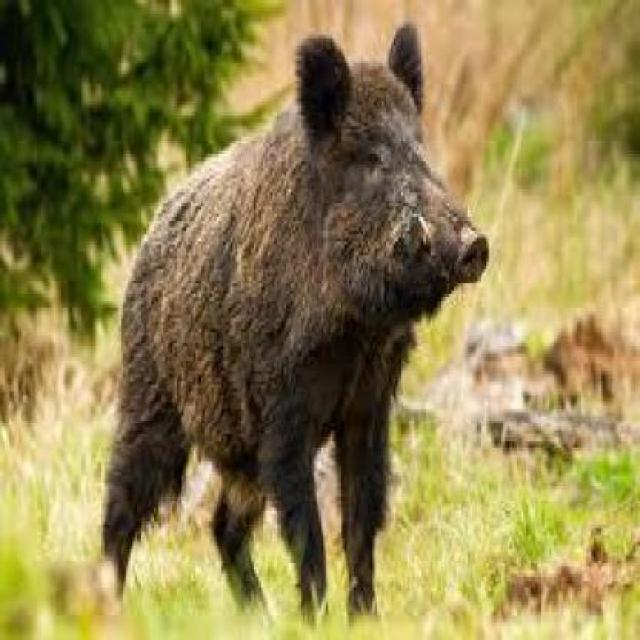wildboar: (92, 17, 496, 626)
